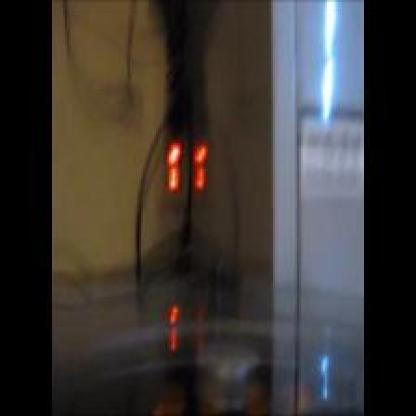other: (158, 125, 210, 196), (162, 291, 201, 359)
